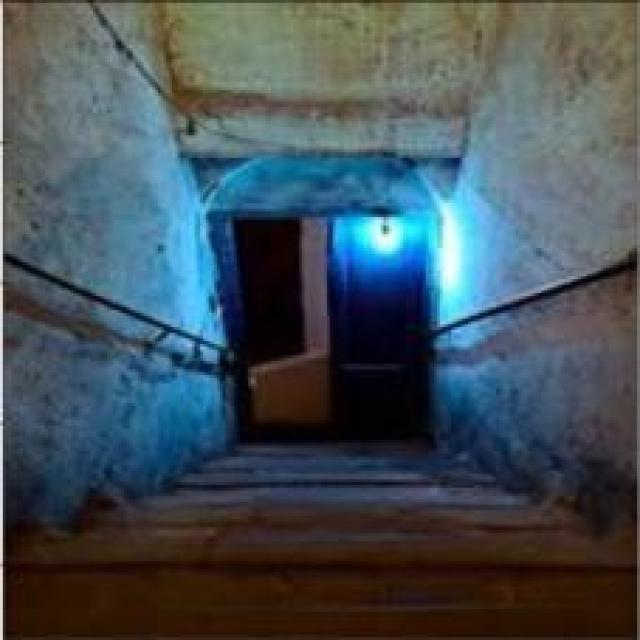downstair: (100, 458, 511, 607)
